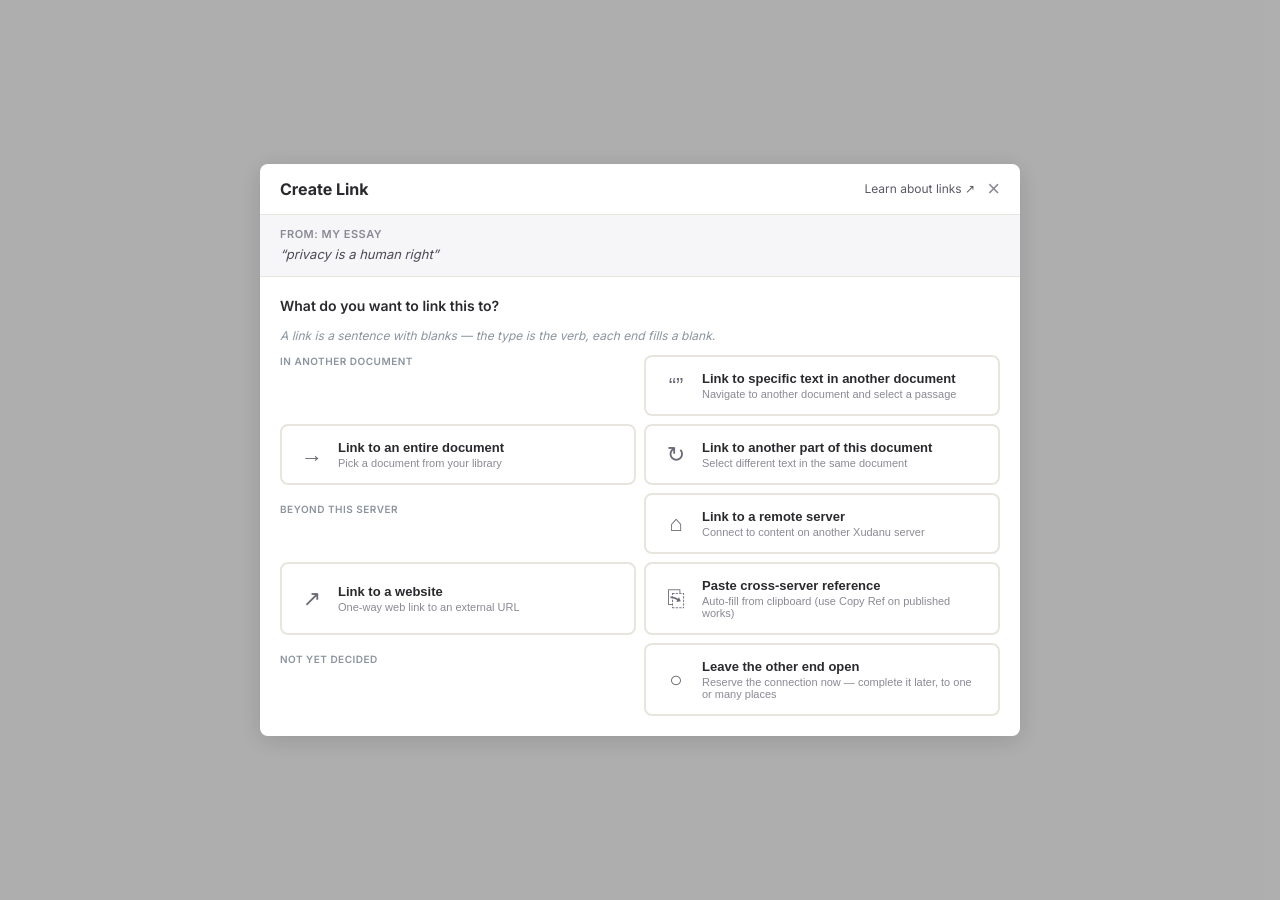
LinkCreator › shows work list when whole-work target is chosen
Click the text "Link to an entire document": (421, 448) [338,440,504,455]
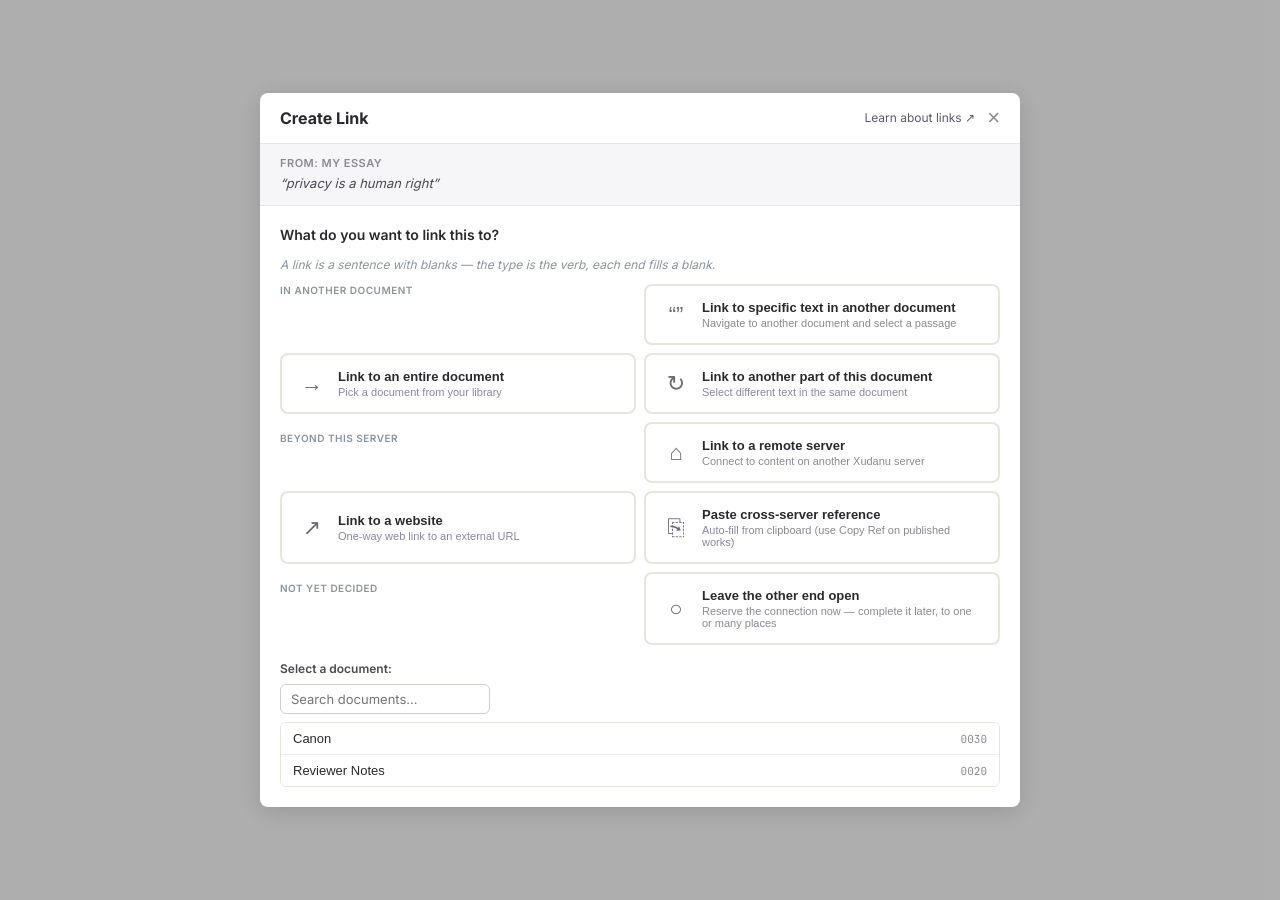
Expected: the text "Select a document:" is shown, [280,661,392,676]
Expected: the text "Reviewer Notes" is shown, [293,763,385,778]
Expected: the text "Canon" is shown, [293,731,331,746]
